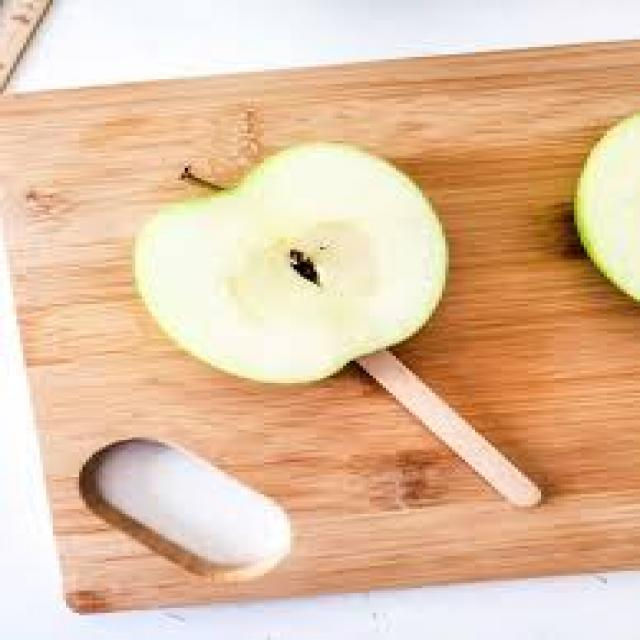Apple: (130, 143, 447, 384), (534, 111, 640, 309)
